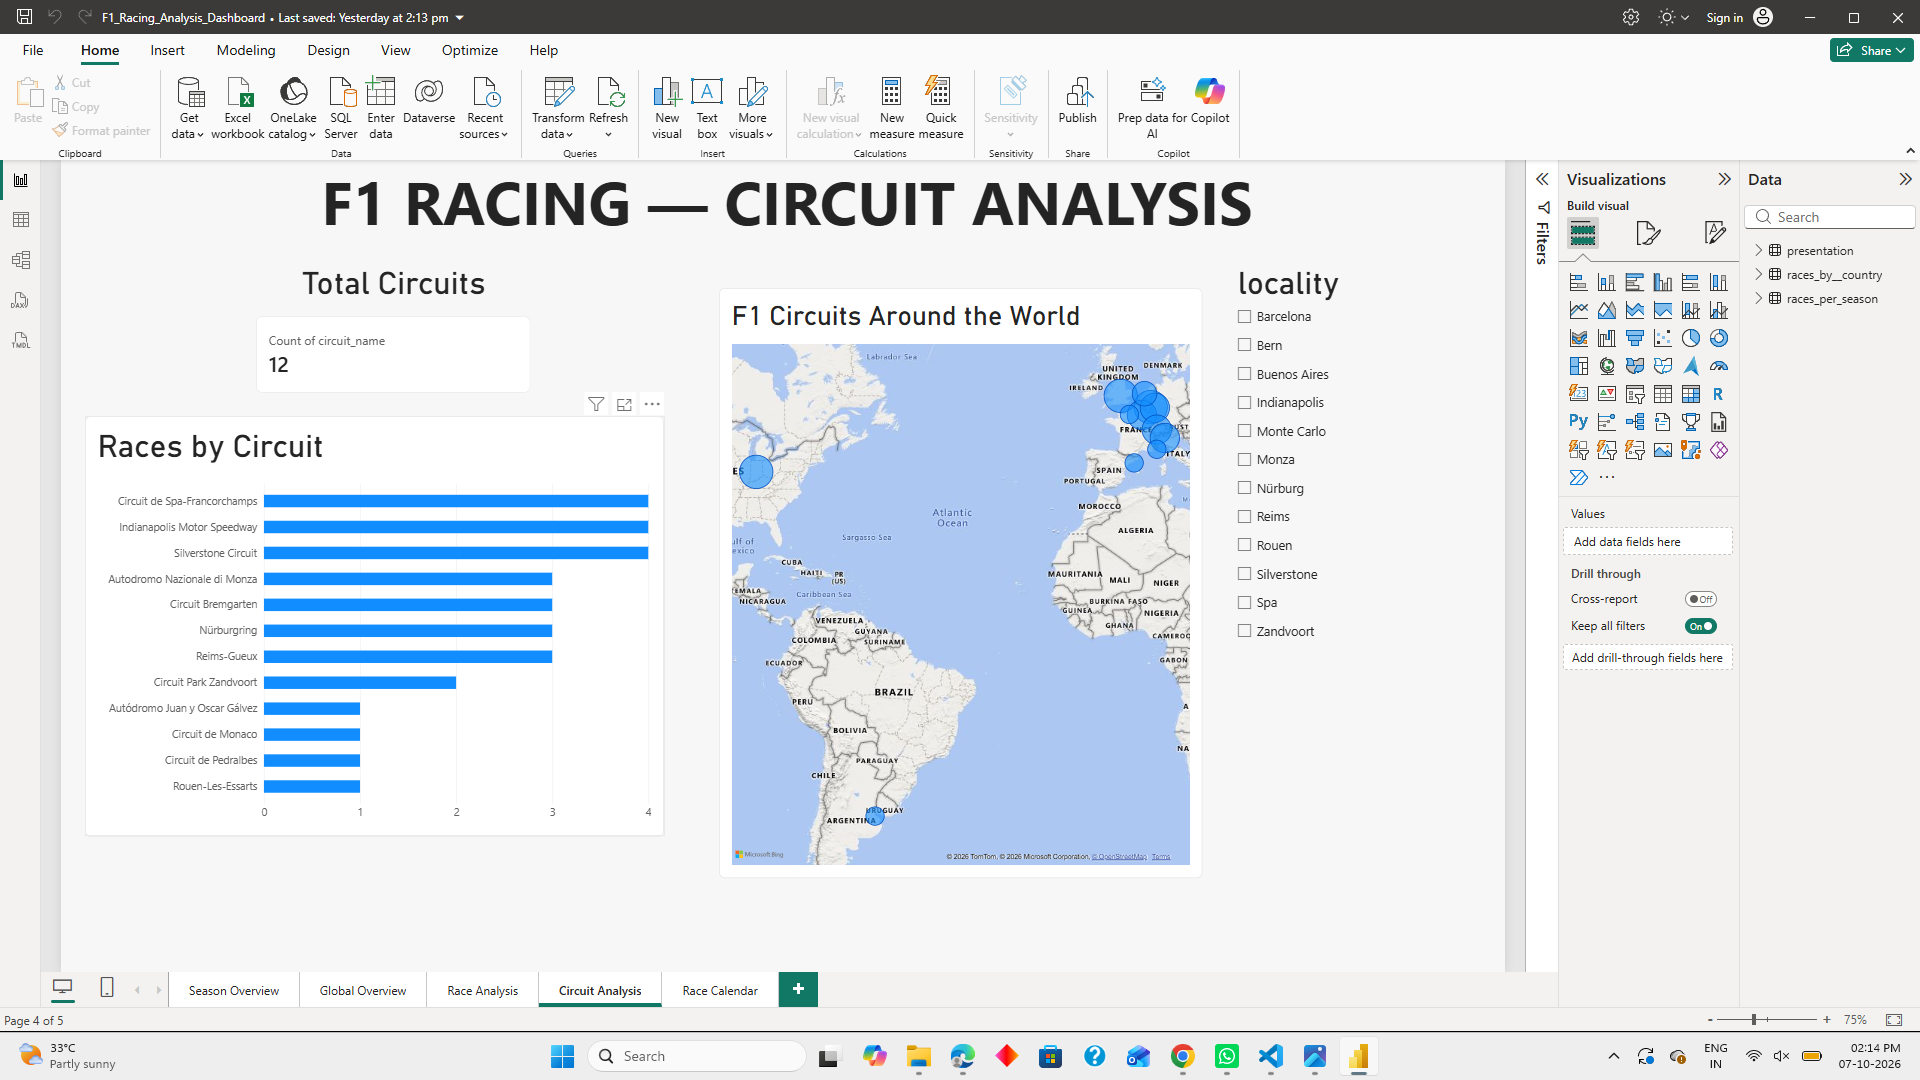

This screenshot's page, from the dashboard's own definition file:
{"tool":"powerbi","page":{"name":"Circuit Analysis","canvas":[1920,1080],"ordinal":3},"visuals":[{"type":"textbox","box":[10,0,1910,170],"z":0},{"type":"cardVisual","title":"Total Circuits","fields":{"Data":["Count(presentation.circuit_name)"]},"box":[260,140,366,170.2],"z":1000},{"type":"clusteredBarChart","title":"Races by Circuit","fields":{"Category":["presentation.circuit_name"],"Y":["CountNonNull(presentation.race_name)"]},"box":[32.5,340,770.2,559.6],"z":2000},{"type":"slicer","fields":{"Values":["presentation.locality"]},"box":[1557.5,140,322.5,537.5],"z":3000},{"type":"map","title":"F1 Circuits Around the World","fields":{"Size":["CountNonNull(presentation.race_name)"],"X":["presentation.longitude"],"Y":["presentation.latitude"]},"box":[875,170,642.5,785],"z":4000}]}

Visuals, with their boxes on the page's 1920x1080 design canvas (x1, y1, x2, y2). These are canvas units, not pixel positions in the 1920x1080 screenshot, which may show the page scaled, cropped or inside an application window:
textbox: x1=10 y1=0 x2=1920 y2=170
"Total Circuits" cardVisual: x1=260 y1=140 x2=626 y2=310
"Races by Circuit" clusteredBarChart: x1=32 y1=340 x2=803 y2=900
slicer - presentation.locality: x1=1558 y1=140 x2=1880 y2=678
"F1 Circuits Around the World" map: x1=875 y1=170 x2=1518 y2=955
